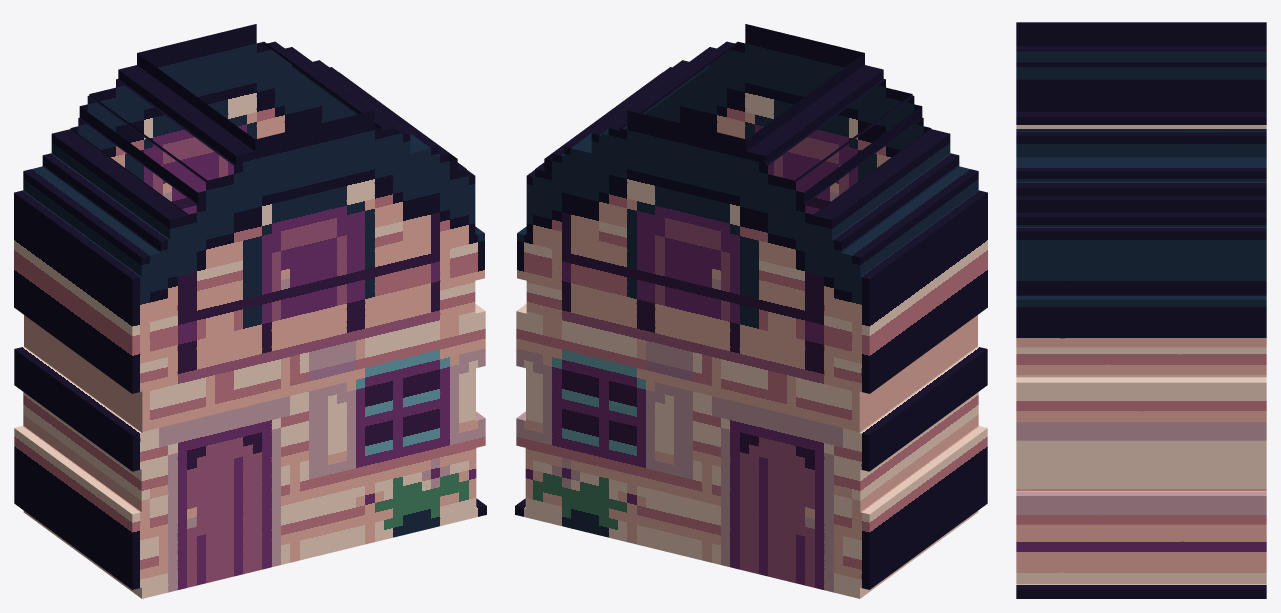
File: extra-house-2.fbx
3 views of the same model, side by side, from view 1: azimuth 30°, elevation 25°; view 2: azimuth 150°, elevation 25°; view 3: azimuth 270°, elevation 25° (orthographic). The views are drawn at different scales.
Parts seen in each view (by area): view 1: Empty.001; view 2: Empty.001; view 3: Empty.001.
Boxes of the visible parts, box(x1,y1,x2,y2) form: Empty.001: box(14, 24, 486, 598); Empty.001: box(515, 24, 987, 598); Empty.001: box(1016, 22, 1266, 598).
Bounding box in the file's own units: 394 × 467 × 227.
1 material, 1 textured.
